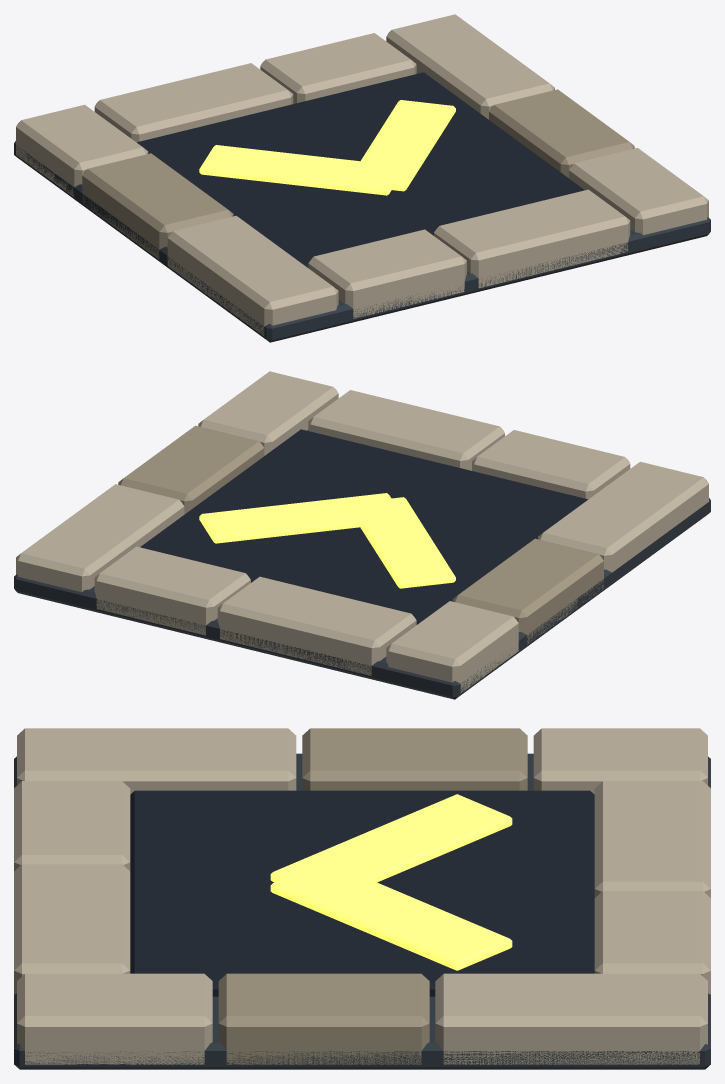
File: Court_PathArrow.fbx
The picture shows the model from 3 angles, top to bottom: view 1: azimuth 30°, elevation 25°; view 2: azimuth 150°, elevation 25°; view 3: azimuth 270°, elevation 25°; orthographic projection. The views are drawn at different scales.
Parts seen in each view (by area): view 1: Concrete, Slate, ConcreteDark, Arrow, FrameDark; view 2: Concrete, Slate, ConcreteDark, Arrow, FrameDark; view 3: Concrete, Slate, ConcreteDark, Arrow, FrameDark.
Part boxes in pixels (bbox=[...]): Concrete: bbox=[16, 14, 708, 336]; Slate: bbox=[137, 72, 584, 267]; ConcreteDark: bbox=[82, 89, 634, 259]; Arrow: bbox=[199, 100, 455, 195]; FrameDark: bbox=[14, 73, 710, 342]; Concrete: bbox=[16, 371, 708, 693]; Slate: bbox=[140, 429, 587, 624]; ConcreteDark: bbox=[118, 425, 603, 644]; Arrow: bbox=[199, 493, 455, 588]; FrameDark: bbox=[14, 430, 710, 699]; Concrete: bbox=[14, 728, 710, 1064]; Slate: bbox=[130, 790, 594, 996]; ConcreteDark: bbox=[218, 728, 527, 1064]; Arrow: bbox=[270, 794, 512, 970]; FrameDark: bbox=[14, 753, 710, 1069].
Bounding box in the file's own units: 6 × 0.5 × 6.
